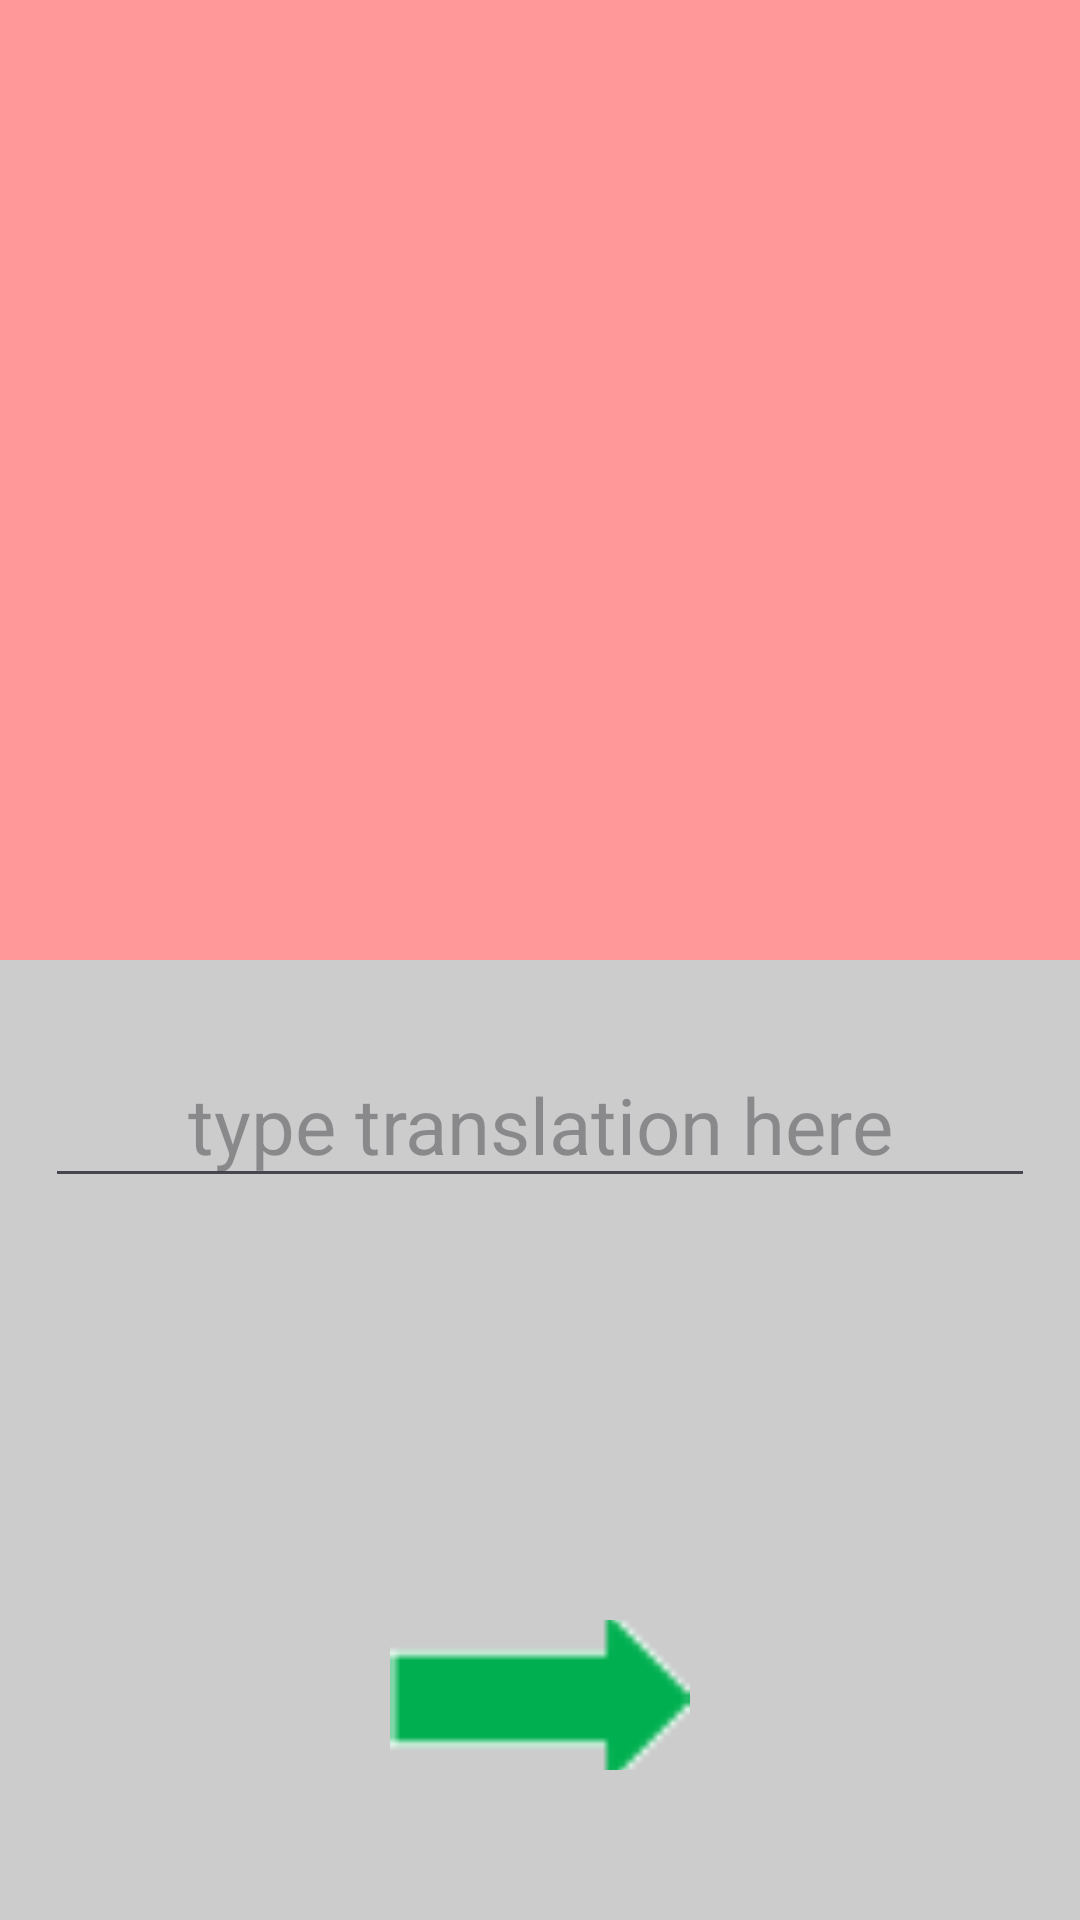

Named icons in this screenshot (1080*1920) and their bounding boxes, (x1, y1, x2, y2):
next arrow: (390, 1620, 690, 1770)
